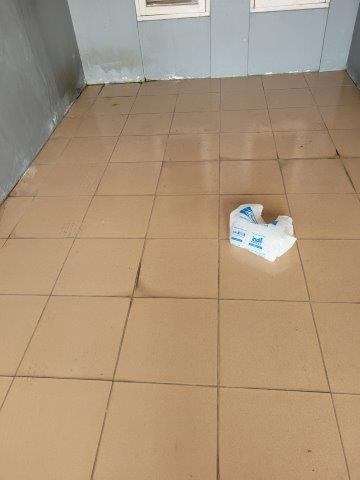plastik: (227, 204, 297, 261)
